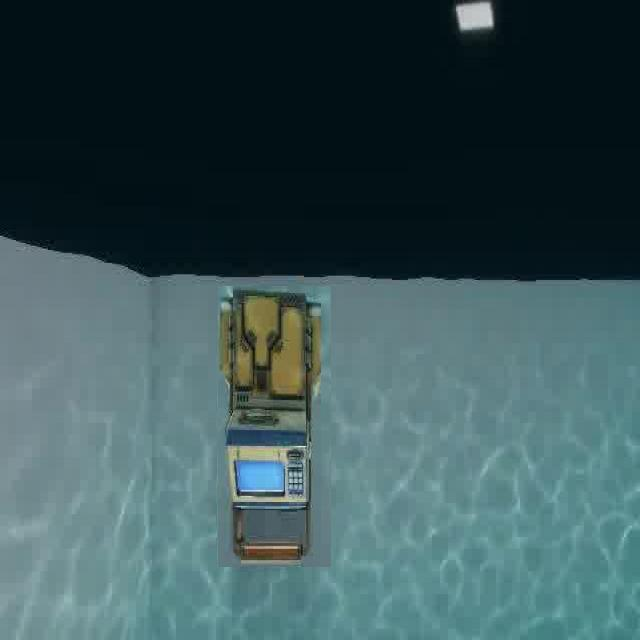Control Panel: (217, 285, 331, 567)
